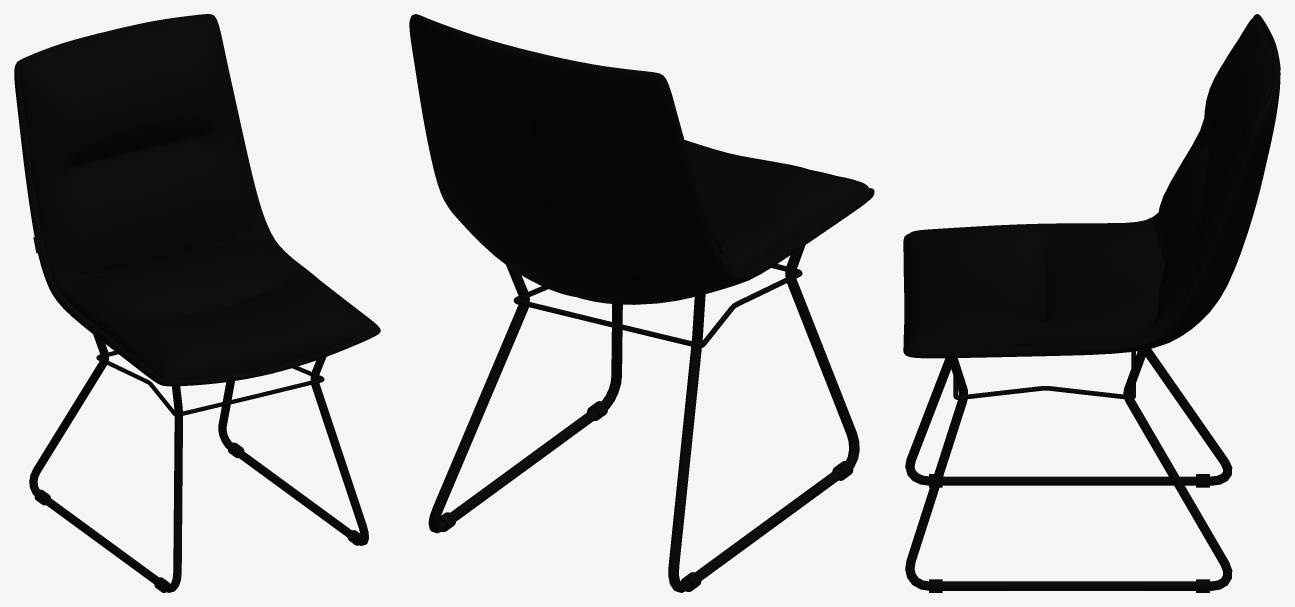
The model's file is chair_45_04.001.fbx.
3 views of the same model, side by side, from view 1: azimuth 30°, elevation 25°; view 2: azimuth 150°, elevation 25°; view 3: azimuth 270°, elevation 25° (orthographic). The views are drawn at different scales.
Visible parts, largest first — view 1: chair_45_04.001; view 2: chair_45_04.001; view 3: chair_45_04.001.
Boxes of the visible parts, x1,y1,x2,y2 form: chair_45_04.001: (14, 14, 380, 592); chair_45_04.001: (409, 14, 874, 592); chair_45_04.001: (903, 14, 1280, 592).
Bounding box in the file's own units: 48.8 × 88.17 × 63.6.
Materials: 1 (1 with a texture image).
